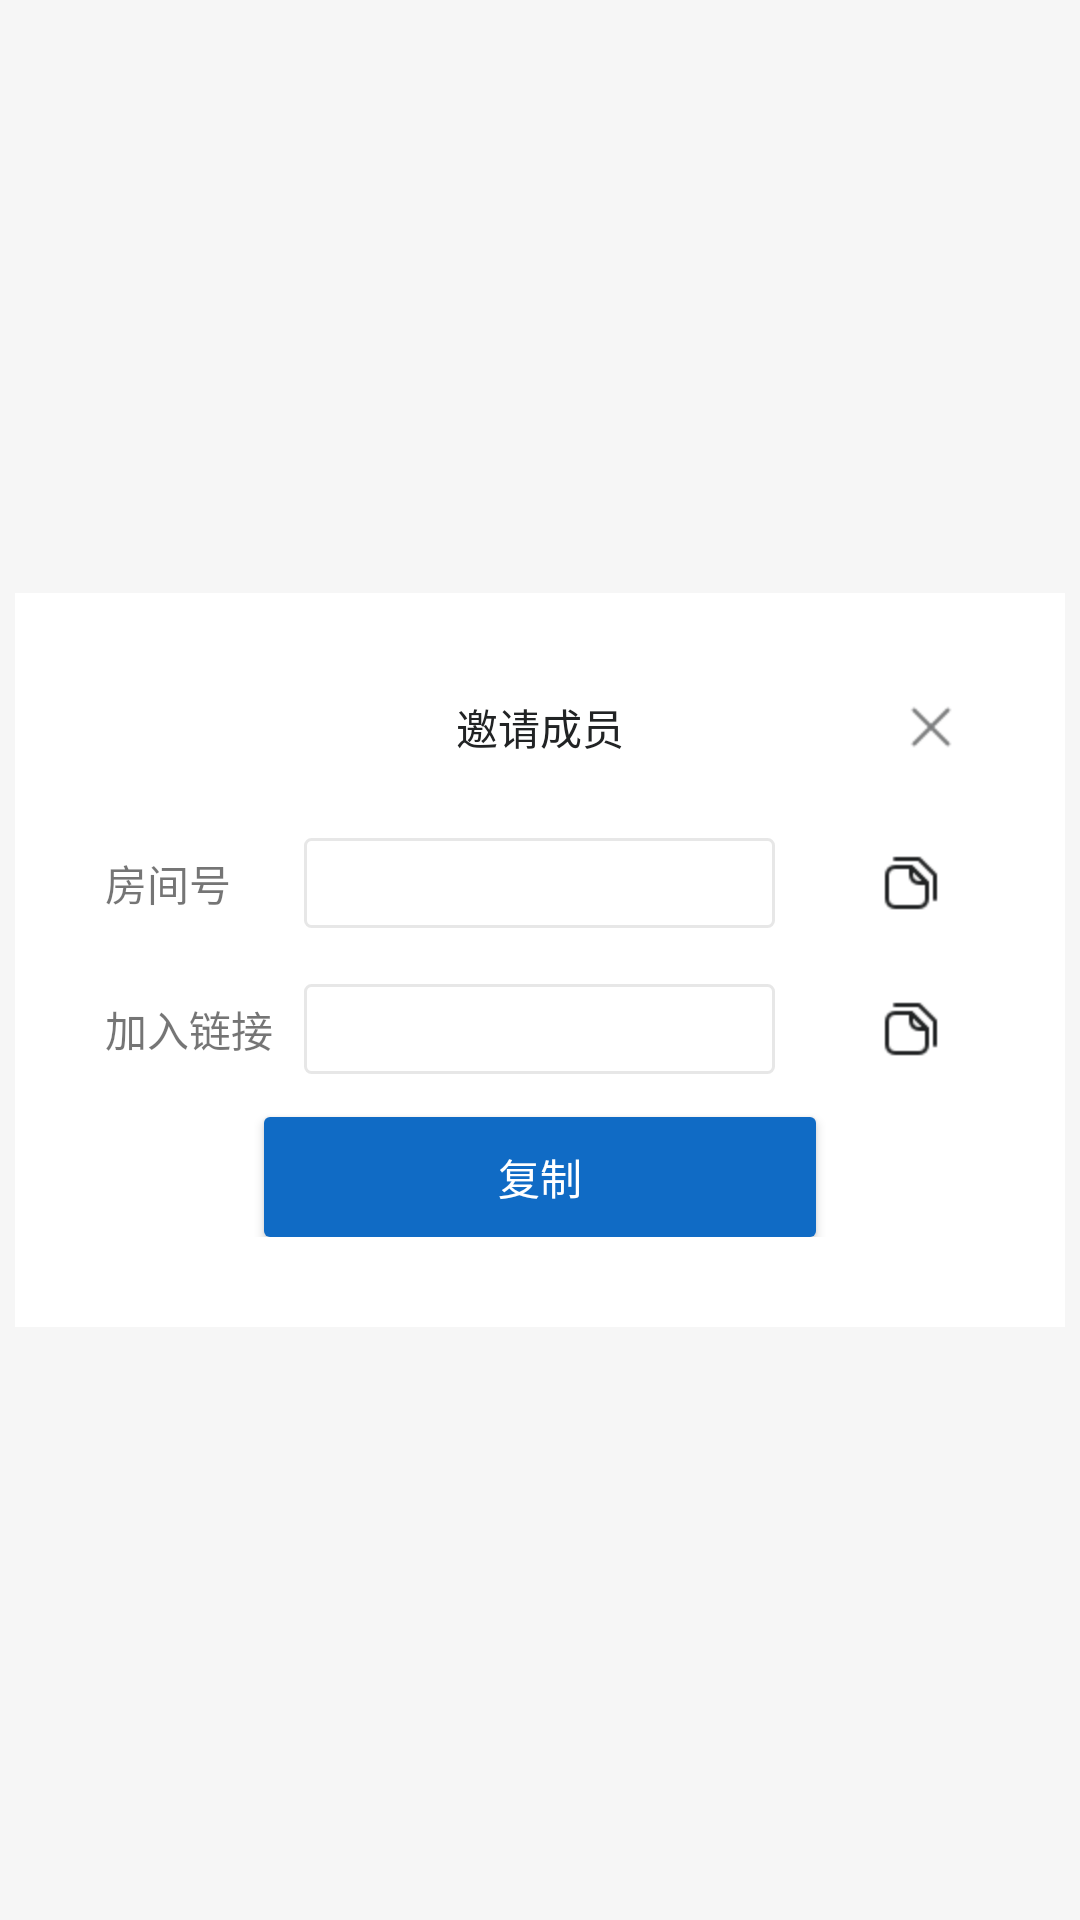

Where icons sit on this 1080x1920 app screen, as detection(x1, y1, x2, y2):
close: detection(911, 707, 951, 747)
